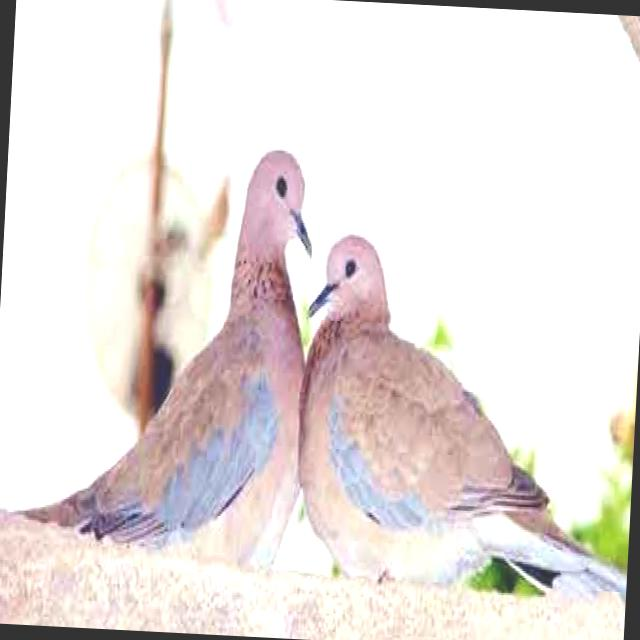bird: (290, 207, 640, 626), (17, 128, 321, 572)
